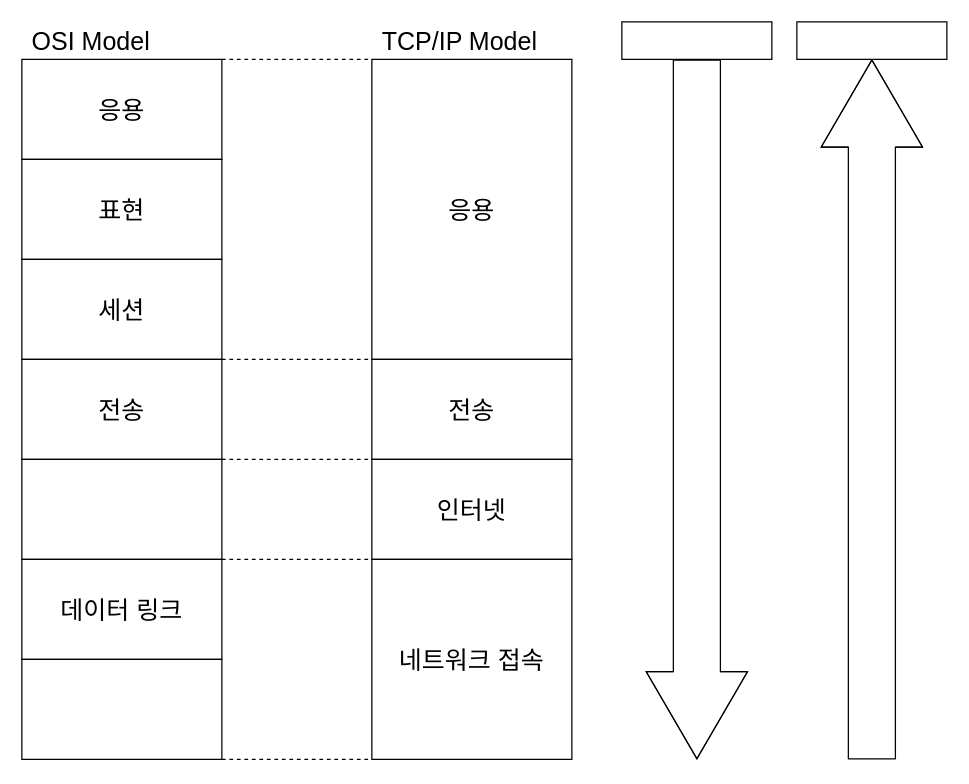
Some shapes in this 969 by 784 pixel diagram are drawn without their labels. Here are the shapes that lost their labels. From the top down, the centre of each, then its label:
[696,40]: 데이터 송신
[871,40]: 데이터 수신
[121,508]: 네트워크
[121,708]: 물리
